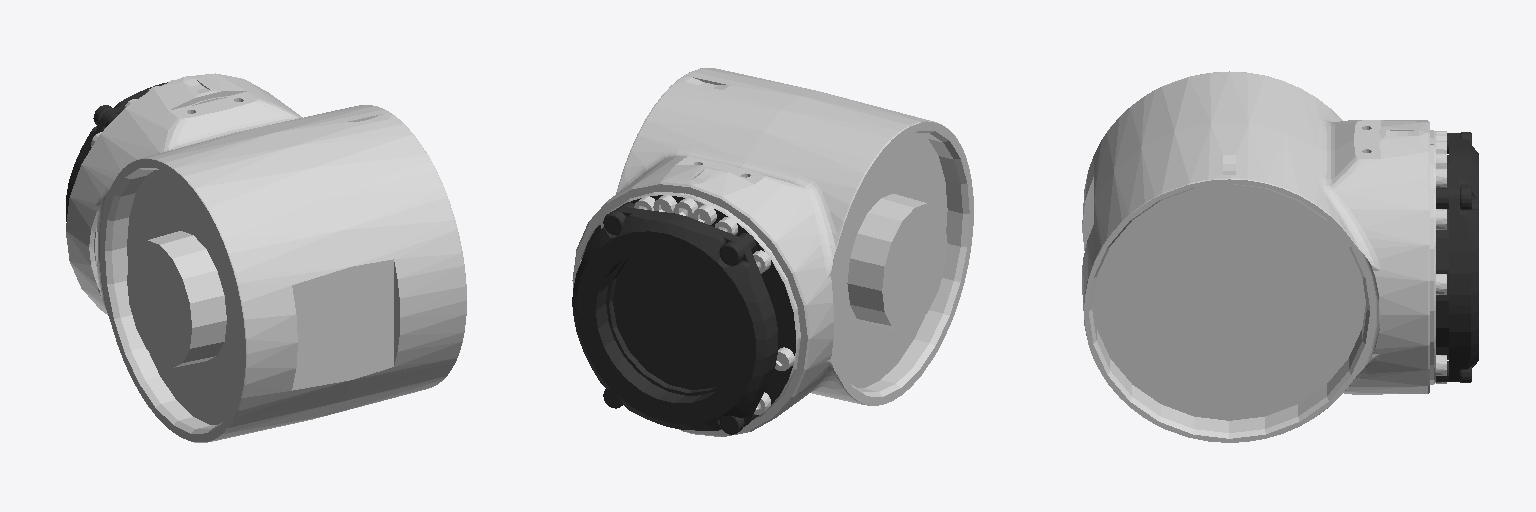
The model's file is RobotLink5_Model.obj.
The picture shows the model from 3 angles: view 1: azimuth 30°, elevation 25°; view 2: azimuth 150°, elevation 25°; view 3: azimuth 270°, elevation 25°; orthographic projection.
Bounding box in the file's own units: 71.5 × 75.41 × 101.